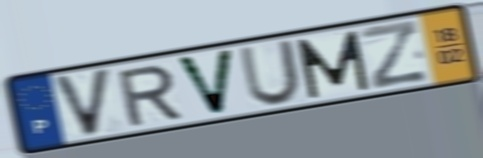M: (293, 28, 373, 102)
R: (114, 62, 185, 129)
U: (237, 37, 304, 108)
V: (50, 65, 115, 140), (173, 47, 238, 118)
Z: (357, 17, 432, 93)
